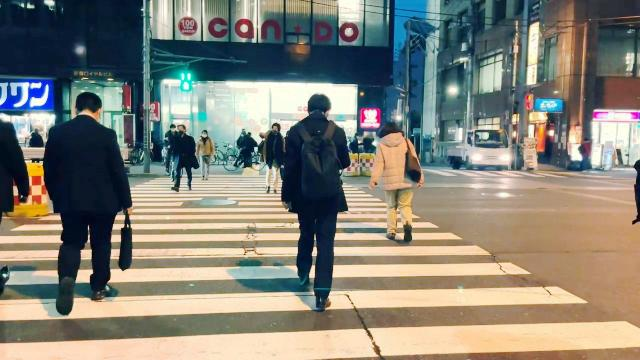berjalan: (44, 88, 134, 316), (280, 88, 346, 318), (367, 119, 419, 247)
